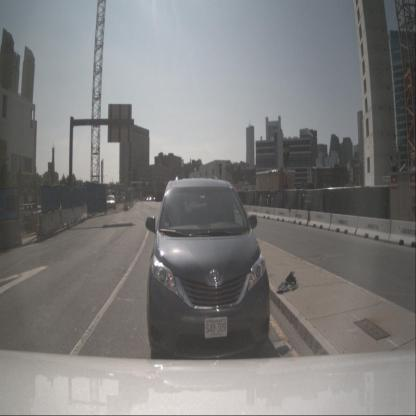human-pedestrian-adult: (267, 195, 271, 211), (260, 194, 264, 210), (271, 195, 275, 211), (264, 195, 268, 210)
movable_object-barrier: (355, 214, 391, 242), (389, 217, 415, 249), (37, 210, 63, 238), (329, 212, 359, 235), (0, 219, 23, 248), (307, 210, 331, 230), (289, 208, 310, 226), (61, 207, 74, 230), (273, 207, 291, 223), (72, 204, 84, 225), (260, 205, 276, 220), (247, 204, 262, 218), (239, 204, 251, 218), (82, 204, 90, 220)
vehicle-car: (146, 176, 270, 361), (106, 195, 116, 210)
